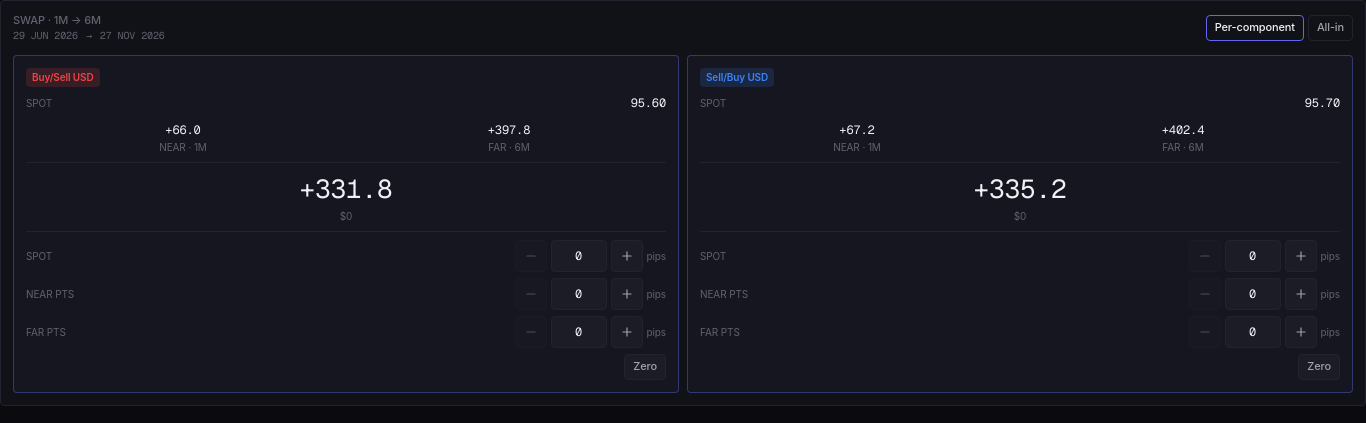
SwapPanel › per-side Zero clears that side’s spot + leg markups
The image size is (1366, 423).
Click the button with test id "margin-plus-near-bid".
click(627, 294)  # box [611,278,643,310]
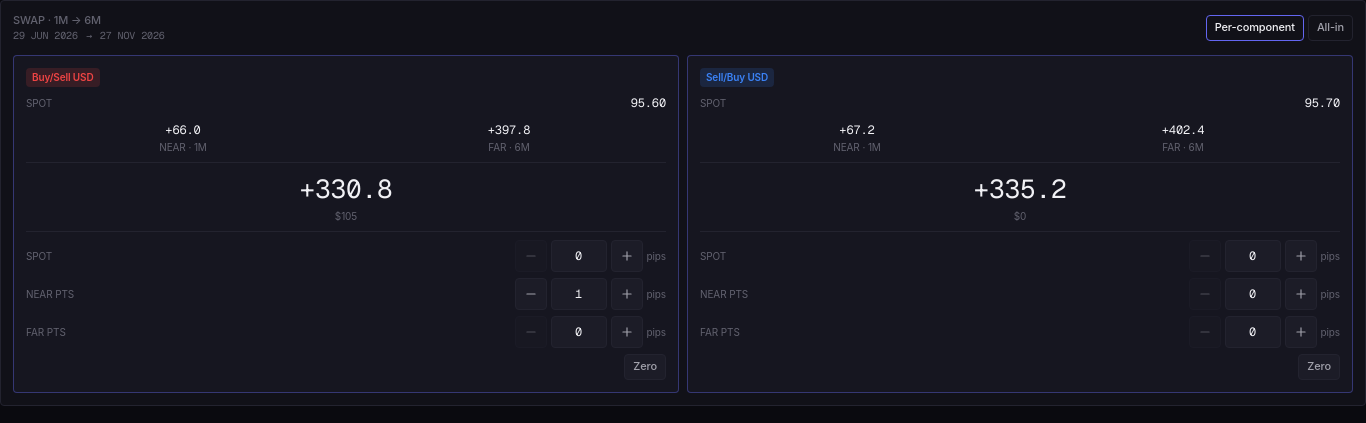
Click the button with test id "margin-plus-spot-bid".
click(627, 256)  # box [611,240,643,272]
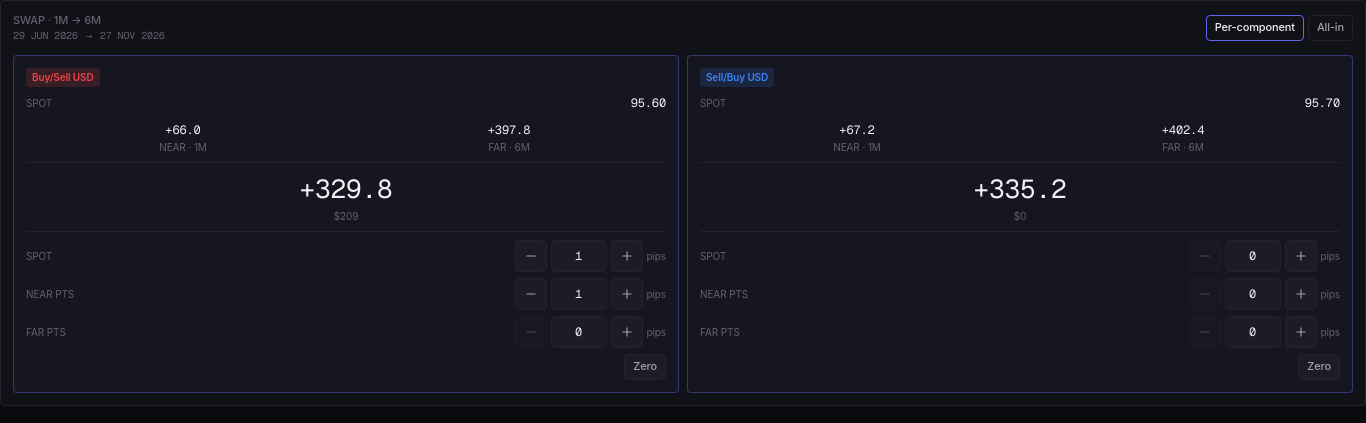
Expected: the number field with test id "margin-input-near-bid" holds "1", [551,278,607,310]
Click the button with test id "swap-zero-bid".
click(645, 367)  # box [624,354,666,380]
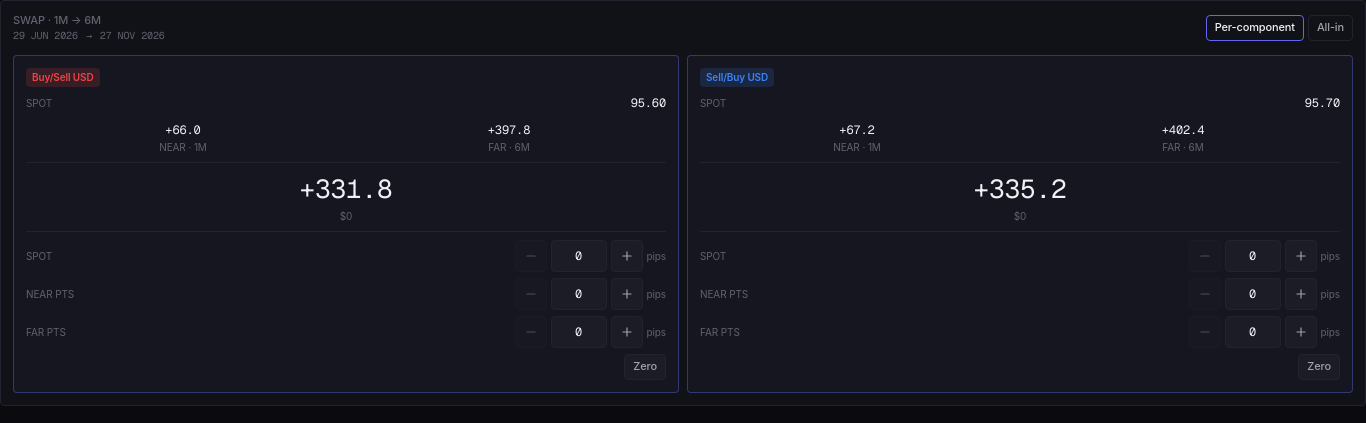
Expected: the number field with test id "margin-input-near-bid" holds "0", [551,278,607,310]
Expected: the number field with test id "margin-input-spot-bid" holds "0", [551,240,607,272]
